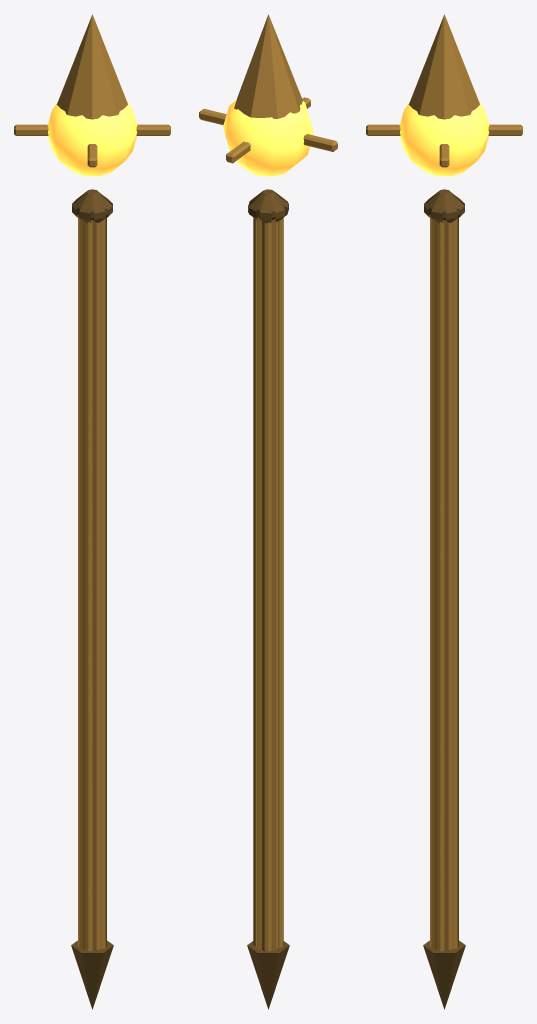
File: sun_staff.glb
3 renders of one model, left to right at view 1: azimuth 90°, elevation 25°; view 2: azimuth 150°, elevation 25°; view 3: azimuth 270°, elevation 25°, orthographic.
Parts seen in each view (by area): view 1: weapon.sun_staff; view 2: weapon.sun_staff; view 3: weapon.sun_staff.
Boxes of the visible parts, box(x1,y1,x2,y2) form: weapon.sun_staff: box(14, 14, 170, 1009); weapon.sun_staff: box(199, 14, 337, 1009); weapon.sun_staff: box(366, 14, 522, 1009).
Size of the model in its own units: 0.2142 by 1.5 by 0.2142.
